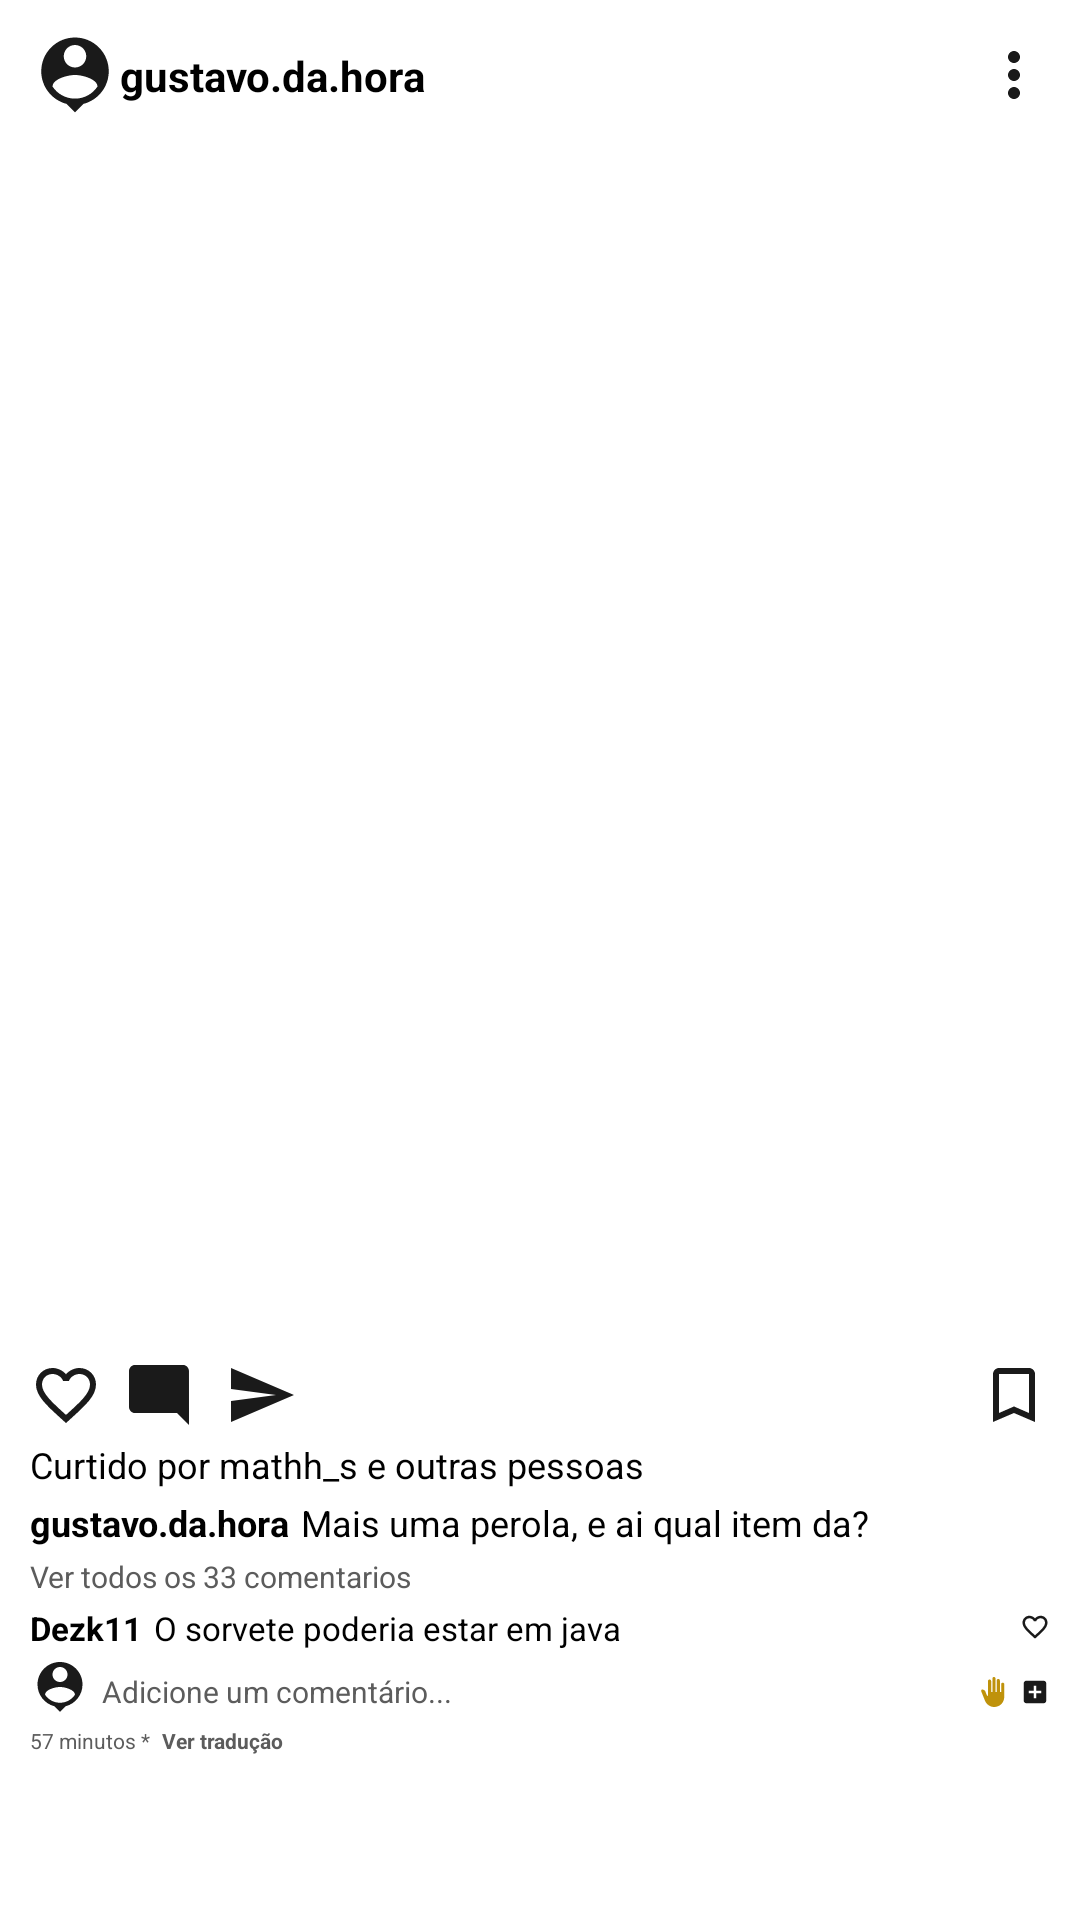

Icon click points for this 1080px x 1920px phone screenshot, format (x,y):
add box: (1035,1692)
back hand: (993,1692)
bookmark icon: (1014,1395)
Comment icon: (159,1395)
heart to like: (66,1395), (1035,1627)
menu icon: (1014,75)
Person Icon: (75,74), (60,1687)
Send img: (262,1395)
